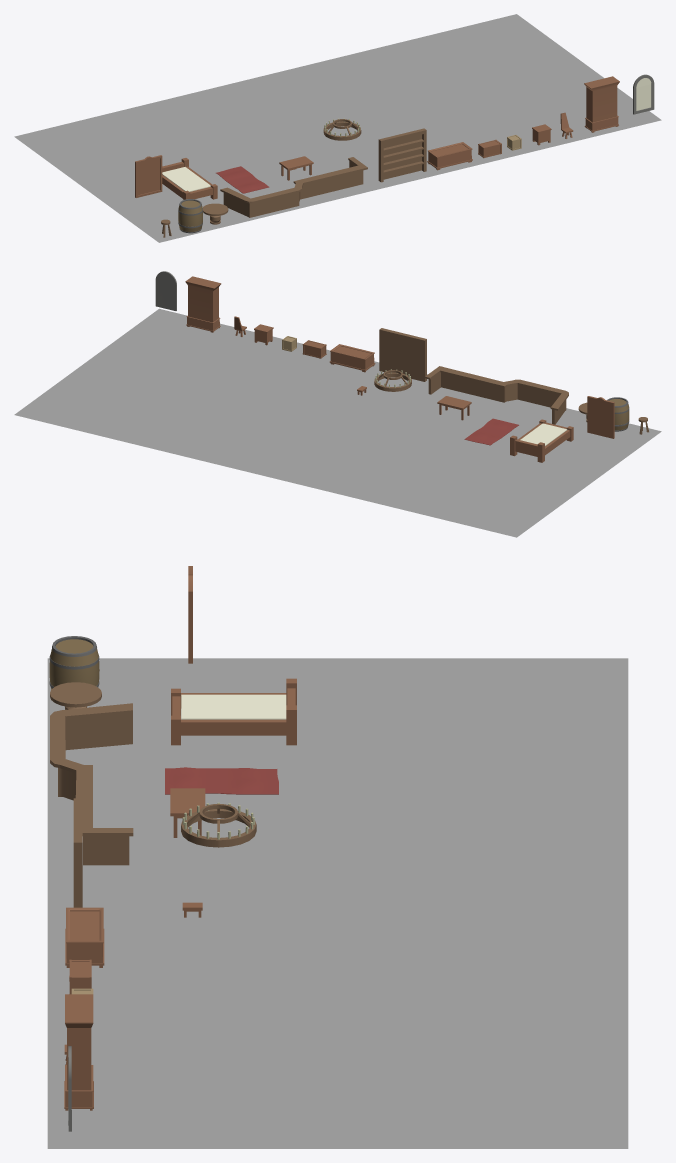
Rendered from Prop_Pallet_v2.fbx.
3 renders of one model, top to bottom at view 1: azimuth 30°, elevation 25°; view 2: azimuth 150°, elevation 25°; view 3: azimuth 270°, elevation 25°, orthographic. The views are drawn at different scales.
Parts seen in each view (by area): view 1: pPlane22, bar, shelf_big, cupboard, painting, dresser, frame, barrel, window, carpet, matress, body (+3 smaller); view 2: pPlane22, bar, shelf_big, cupboard, painting, frame, dresser, window, carpet, matress, barrel, body (+1 smaller); view 3: pPlane22, bar, frame, cupboard, carpet, matress, barrel, dresser, body, table, shelf_big, desk.
Part boxes in pixels (x1,y1,x2,y2): pPlane22: [14, 14, 661, 242]; bar: [220, 157, 367, 217]; shelf_big: [378, 128, 426, 182]; cupboard: [584, 76, 619, 132]; painting: [135, 155, 162, 197]; dresser: [427, 142, 472, 170]; frame: [162, 158, 217, 199]; barrel: [178, 199, 202, 233]; window: [633, 74, 654, 114]; carpet: [216, 166, 269, 193]; matress: [162, 167, 210, 191]; body: [323, 119, 361, 140]; pPlane22: [14, 308, 661, 537]; bar: [425, 366, 568, 424]; shelf_big: [379, 328, 426, 381]; cupboard: [185, 276, 221, 332]; painting: [587, 396, 614, 438]; frame: [510, 419, 573, 462]; dresser: [329, 344, 375, 372]; window: [155, 271, 176, 310]; carpet: [464, 418, 518, 445]; matress: [520, 423, 567, 445]; barrel: [607, 397, 629, 431]; body: [374, 370, 411, 391]; pPlane22: [47, 658, 628, 1148]; bar: [50, 703, 133, 865]; frame: [171, 678, 296, 745]; cupboard: [64, 994, 93, 1110]; carpet: [165, 767, 278, 794]; matress: [181, 694, 286, 719]; barrel: [49, 636, 99, 689]; dresser: [65, 907, 104, 967]; body: [181, 803, 256, 847]; table: [50, 682, 101, 709]; shelf_big: [73, 798, 82, 907]; desk: [170, 788, 205, 837].
Size of the model in its own units: 249 by 25.4 by 124.
